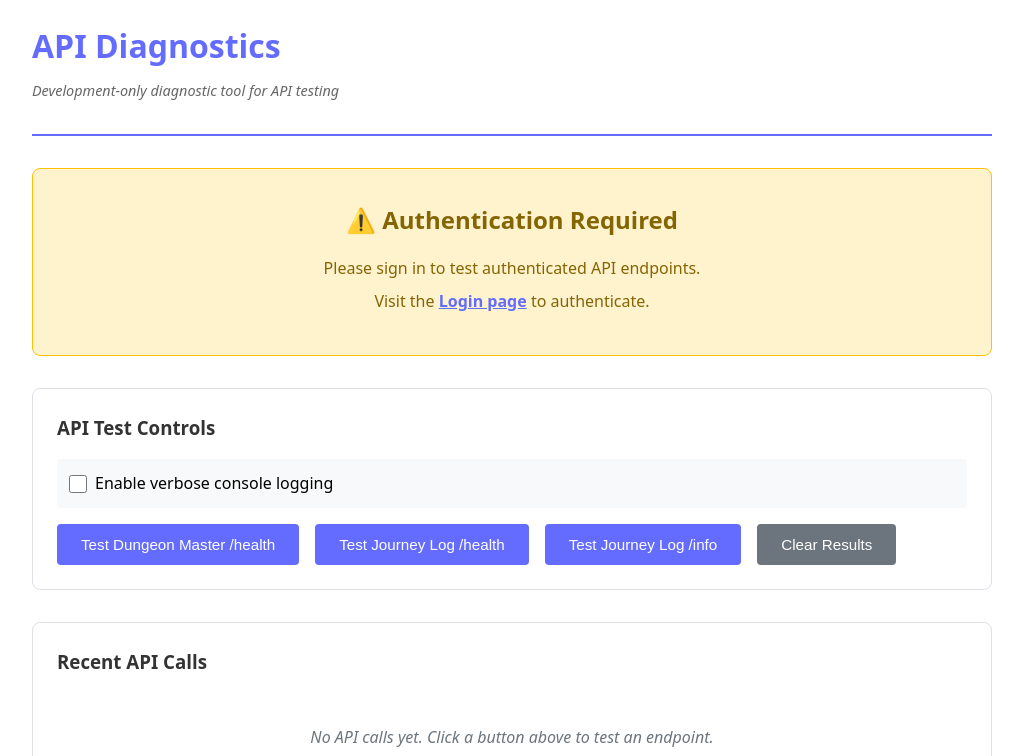
Test case: DebugPage › clears results when clear button is clicked
Make an API call
Click the button "Test Dungeon Master /health".
click(178, 545)  # box [57,524,299,565]
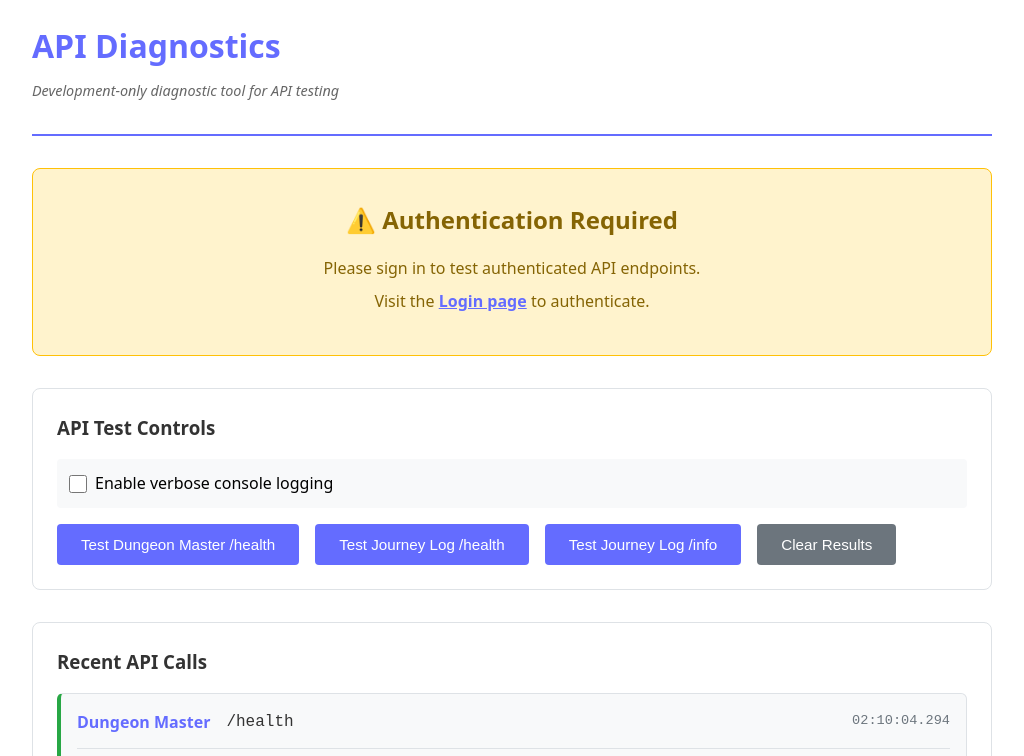
Clear results
Click the button "Clear Results".
click(827, 545)  # box [757,524,896,565]
(page scrolled)
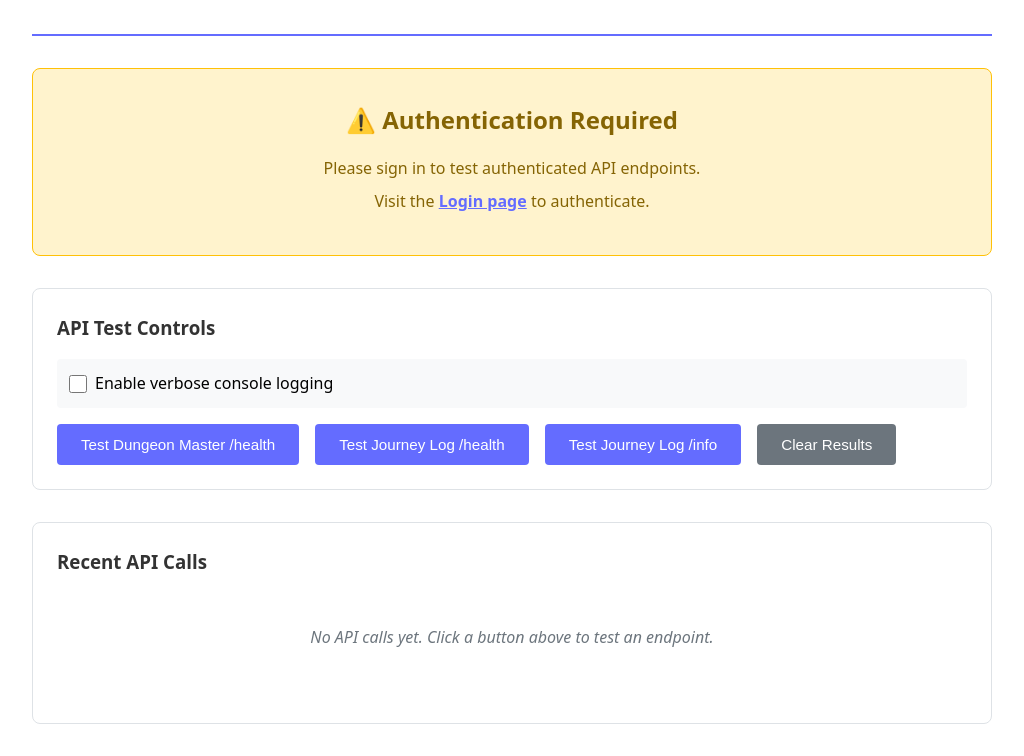
Expected: the text "No API calls yet. Click a button above to test an endpoint." is shown, [310,626,714,648]
